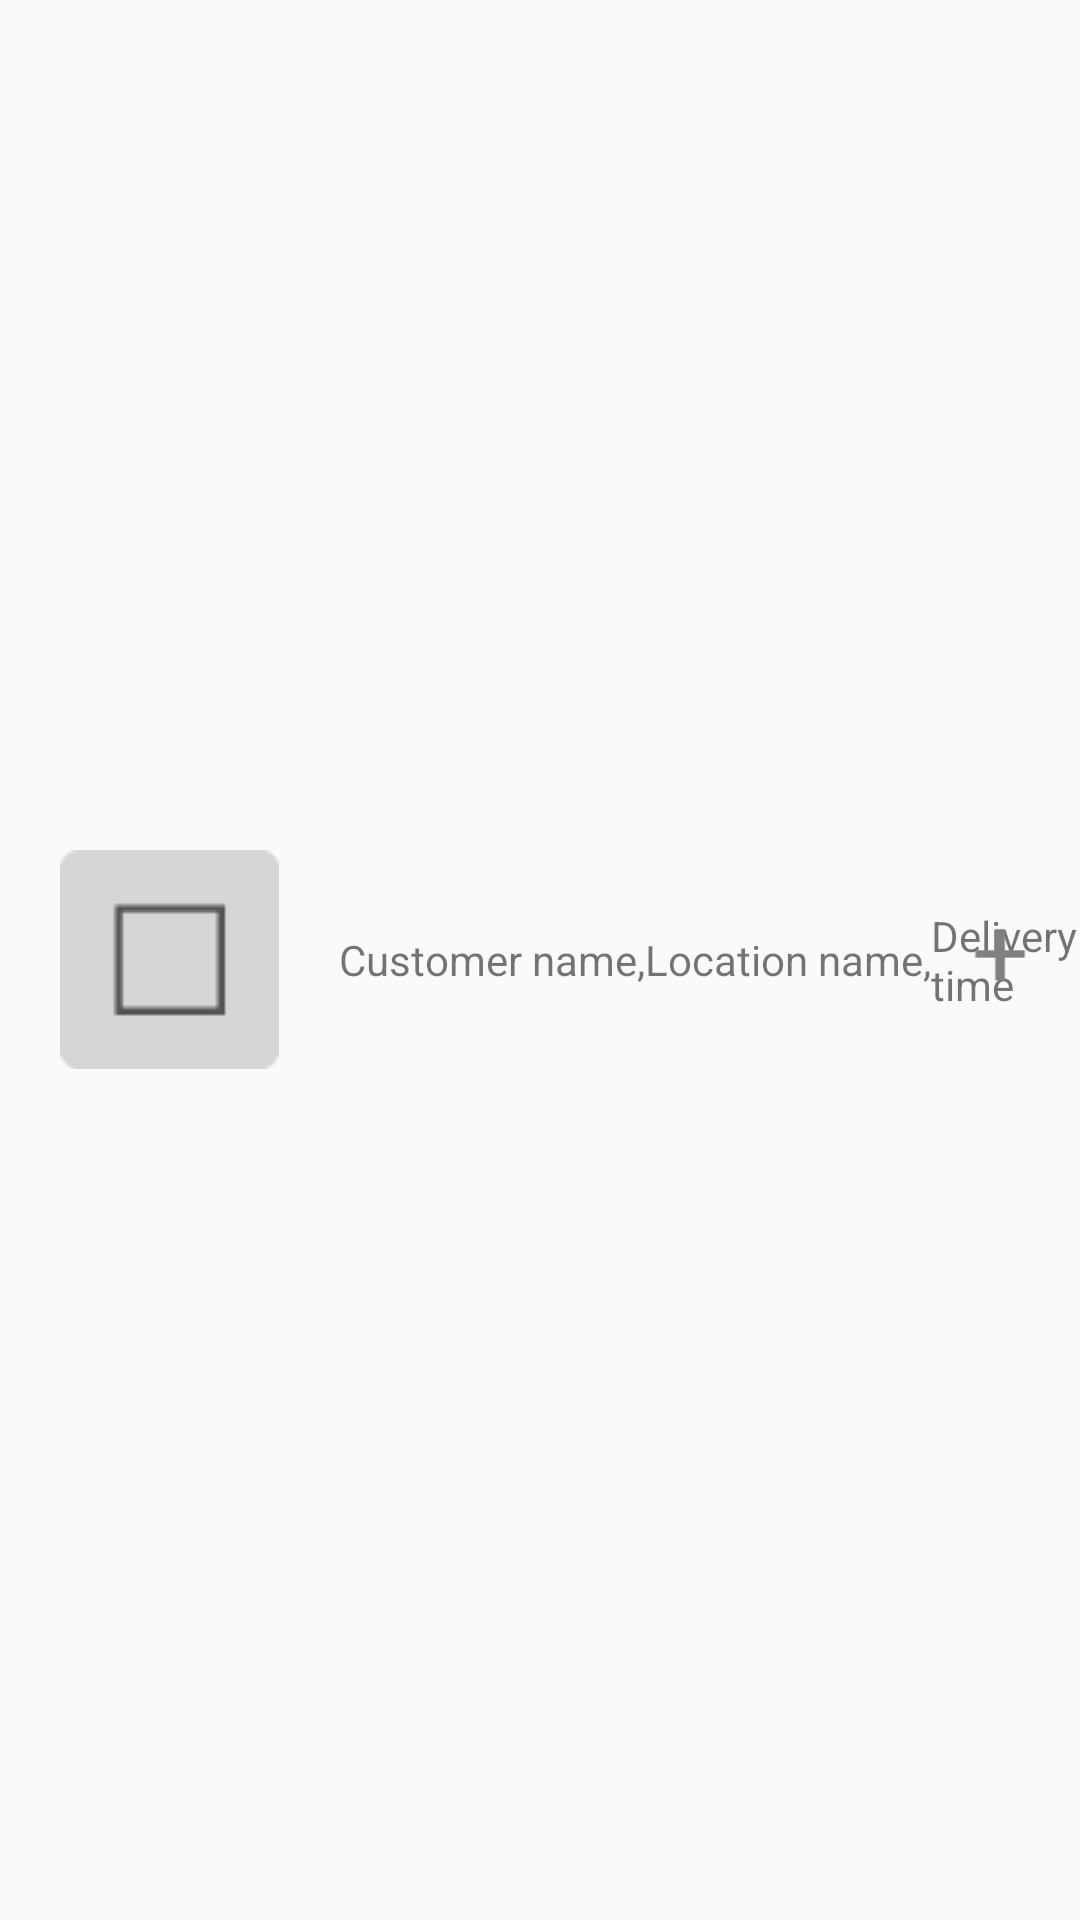

Screen size 1080×1920. Icon name, then its box in pixels as box(x1, y1, x2, y2):
checkbox: box(60, 850, 279, 1069)
